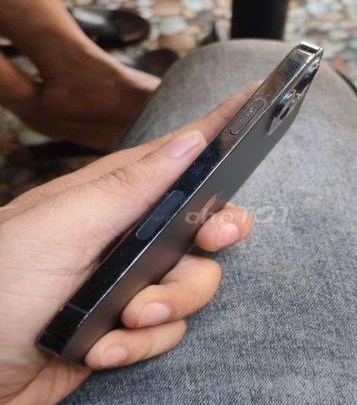scratch: (89, 56, 302, 257)
